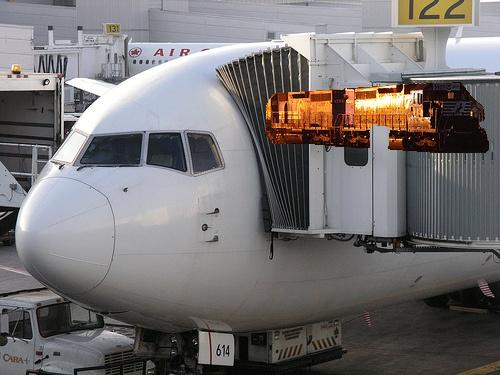tampered: (267, 83, 489, 153)
